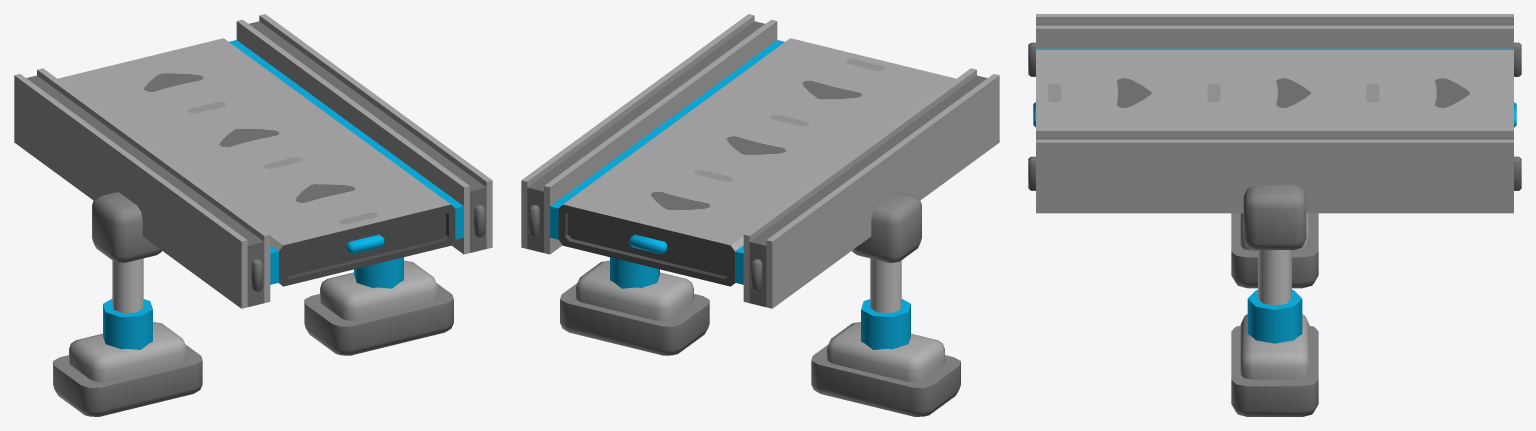
Rendered from Conveyor_Belt_2nd_S01.fbx.
3 renders of one model, left to right at view 1: azimuth 30°, elevation 25°; view 2: azimuth 150°, elevation 25°; view 3: azimuth 270°, elevation 25°, orthographic. The views are drawn at different scales.
Parts seen in each view (by area): view 1: Conveyor_Belt_2nd_S01; view 2: Conveyor_Belt_2nd_S01; view 3: Conveyor_Belt_2nd_S01.
Boxes of the visible parts, <box> form: Conveyor_Belt_2nd_S01: <box>14,14,492,416</box>; Conveyor_Belt_2nd_S01: <box>521,14,999,416</box>; Conveyor_Belt_2nd_S01: <box>1028,14,1521,416</box>.
Bounding box in the file's own units: 189 × 115 × 207.
